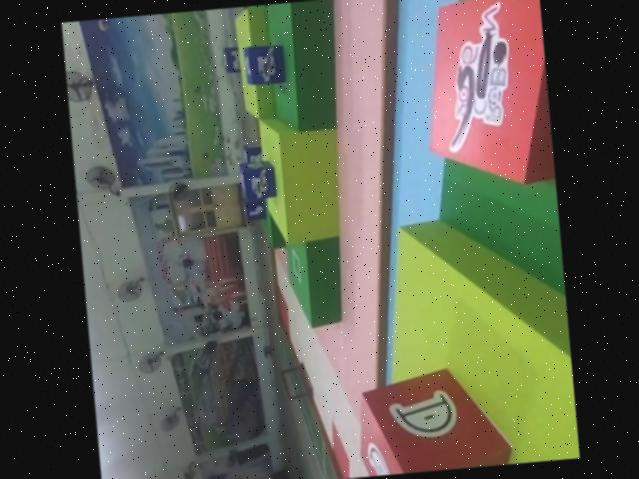R1: (408, 0, 555, 194)
R2 Real: (346, 359, 514, 477)
